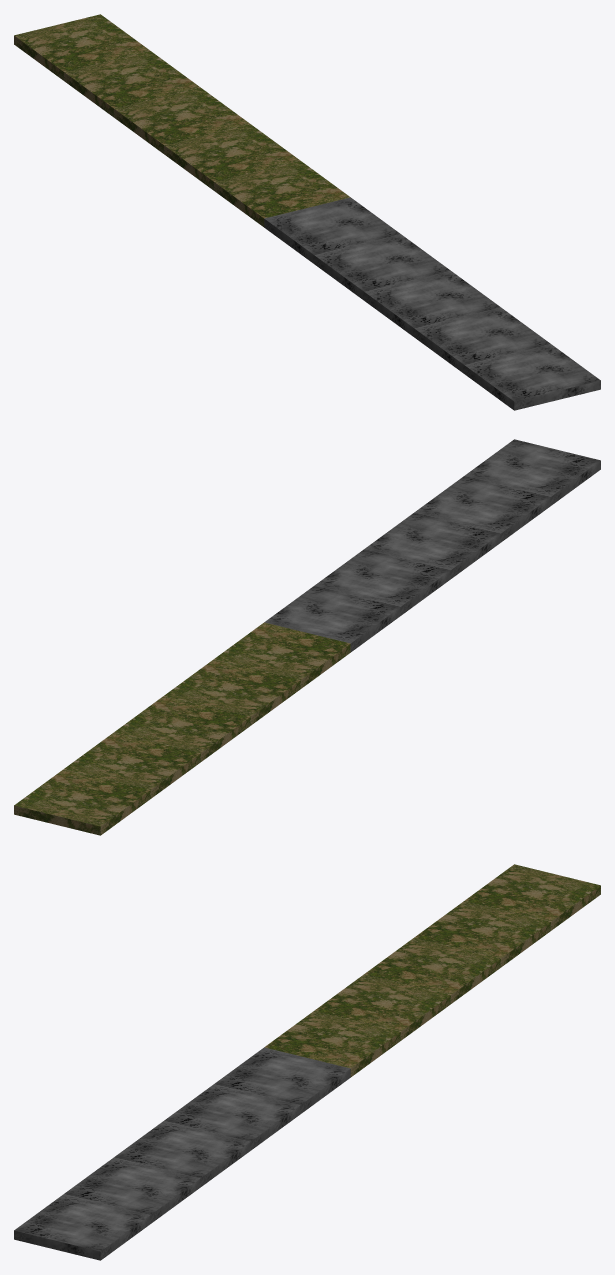
Rendered from floor.FBX.
3 views of the same model, one above another, from view 1: azimuth 30°, elevation 25°; view 2: azimuth 150°, elevation 25°; view 3: azimuth 330°, elevation 25° (orthographic).
Visible parts, largest first — view 1: 对象001, Box001; view 2: Box001, 对象001; view 3: 对象001, Box001.
Boxes of the visible parts, bbox=[...] form: 对象001: bbox=[264, 197, 600, 410]; Box001: bbox=[14, 14, 350, 227]; Box001: bbox=[14, 622, 350, 835]; 对象001: bbox=[264, 439, 600, 652]; 对象001: bbox=[14, 1047, 350, 1260]; Box001: bbox=[264, 864, 600, 1077].
Bounding box in the file's own units: 10 × 1 × 100.
Materials: 2 (2 with a texture image).
